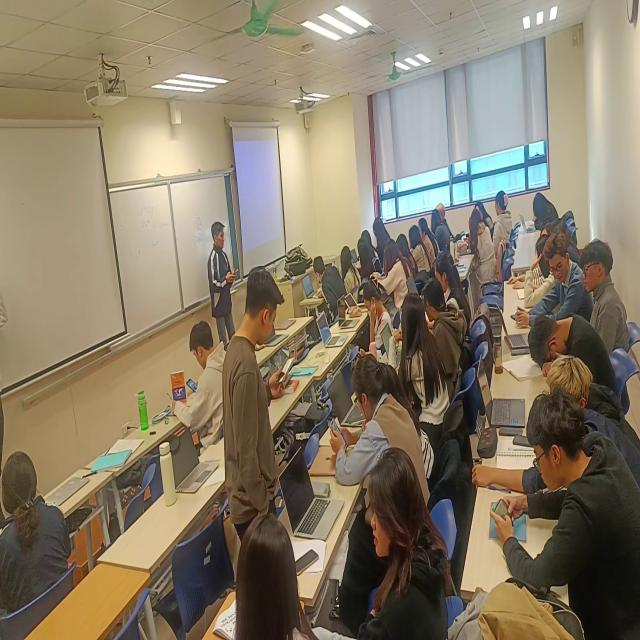raise_head: (361, 452, 429, 570), (382, 295, 438, 383), (581, 241, 624, 303), (493, 191, 514, 265)
read: (358, 280, 395, 343)
sleep: (527, 305, 603, 374)
stand: (225, 266, 282, 541), (208, 218, 236, 344)
using_computer: (518, 189, 554, 239)
using_phone: (490, 399, 605, 564), (324, 356, 403, 465), (240, 271, 300, 401), (182, 322, 224, 407)
